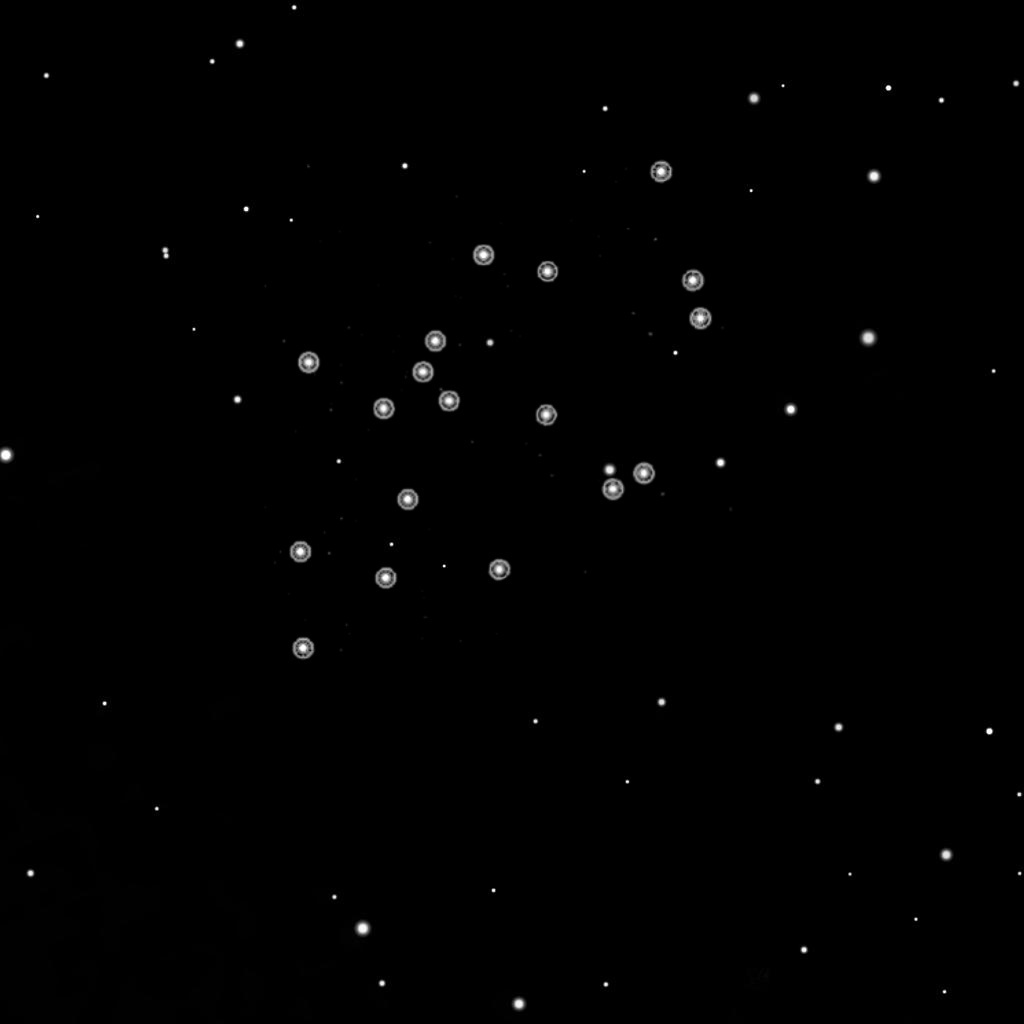canis_major: (366, 242, 563, 427)
